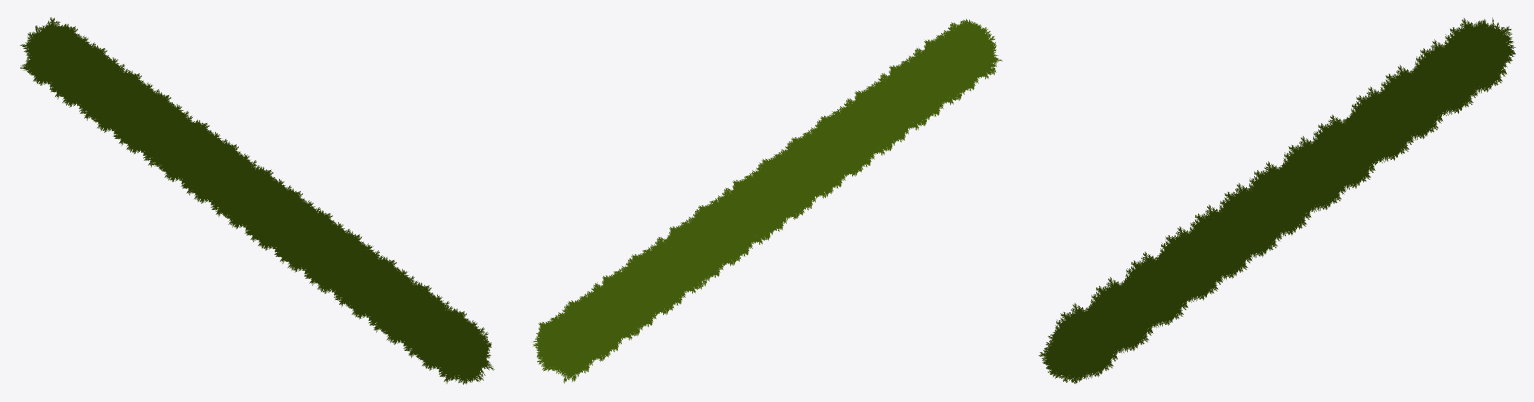
Rendered from test_bushes_001.fbx.
The picture shows the model from 3 angles, left to right: view 1: azimuth 30°, elevation 25°; view 2: azimuth 150°, elevation 25°; view 3: azimuth 330°, elevation 25°; orthographic projection.
Parts seen in each view (by area): view 1: bush12, bush2, bush8, bush9, bush10, bush6, bush1, bush7, bush3, bush, bush5, bush4 (+1 smaller); view 2: bush, bush7, bush12, bush8, bush9, bush3, bush5, bush2, bush1, bush6, bush10, bush11 (+1 smaller); view 3: bush12, bush2, bush8, bush9, bush1, bush10, bush6, bush, bush7, bush5, bush3, bush4 (+1 smaller).
Part boxes in pixels (x1,y1,x2,y2): bush12: [408, 302, 494, 384]; bush2: [113, 85, 192, 167]; bush8: [373, 276, 452, 357]; bush9: [339, 250, 418, 332]; bush10: [304, 225, 383, 307]; bush6: [181, 135, 260, 216]; bush1: [49, 38, 128, 120]; bush7: [151, 113, 230, 195]; bush3: [84, 64, 163, 145]; bush: [20, 17, 99, 99]; bush5: [215, 160, 294, 241]; bush4: [244, 182, 323, 263]; bush: [533, 301, 616, 383]; bush7: [666, 206, 747, 286]; bush12: [924, 19, 1002, 99]; bush8: [889, 44, 967, 125]; bush9: [852, 70, 932, 150]; bush3: [600, 255, 680, 335]; bush5: [730, 160, 810, 239]; bush2: [631, 233, 710, 315]; bush1: [567, 279, 645, 362]; bush6: [698, 184, 776, 266]; bush10: [820, 95, 899, 176]; bush11: [791, 116, 869, 198]; bush12: [1038, 303, 1126, 383]; bush2: [1343, 86, 1422, 165]; bush8: [1084, 277, 1161, 354]; bush9: [1120, 251, 1196, 329]; bush1: [1409, 39, 1486, 116]; bush10: [1154, 225, 1231, 303]; bush6: [1278, 136, 1354, 212]; bush: [1442, 17, 1515, 95]; bush7: [1311, 114, 1383, 191]; bush5: [1247, 161, 1320, 238]; bush3: [1378, 65, 1451, 140]; bush4: [1217, 183, 1290, 260].
Size of the model in its own units: 2.78 by 2.62 by 31.05.
